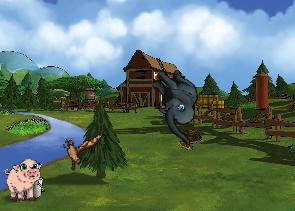eagle: (54, 120, 105, 177)
elephant: (132, 61, 221, 148)
pig: (4, 159, 43, 202)
